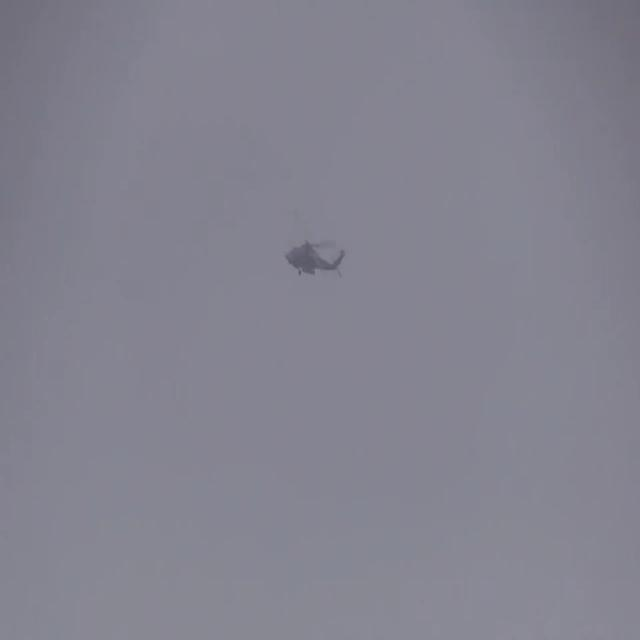Helicopter: (282, 215, 350, 296)
